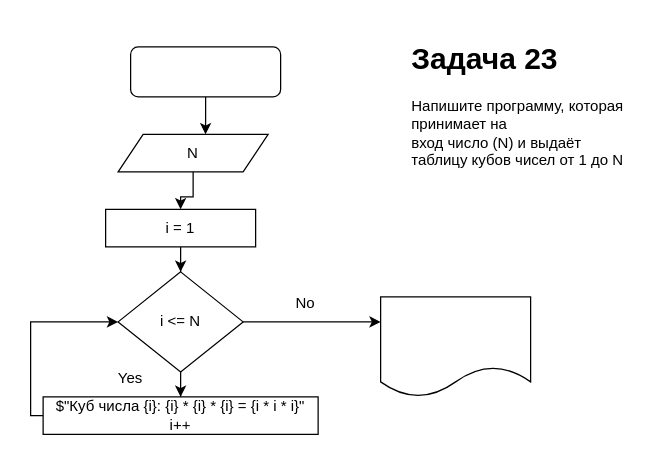
Image size: 665x456. Some labels were removed from this diagram. The shapes that lost their labels are listed below. From the top down, each one's centre as x and y in pixels, then its label:
(205,71): start
(455,346): $"Куб числа {i}: {i} * {i} * {i} = {i * i * i}"
